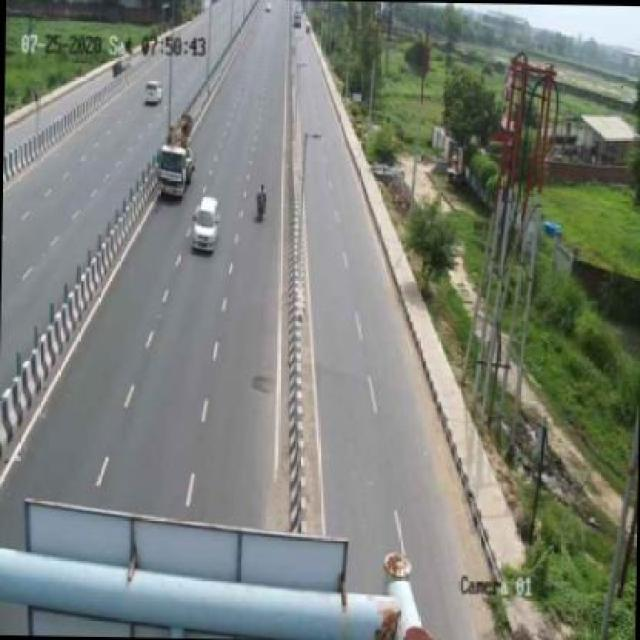car: (190, 198, 218, 252), (140, 75, 165, 111)
